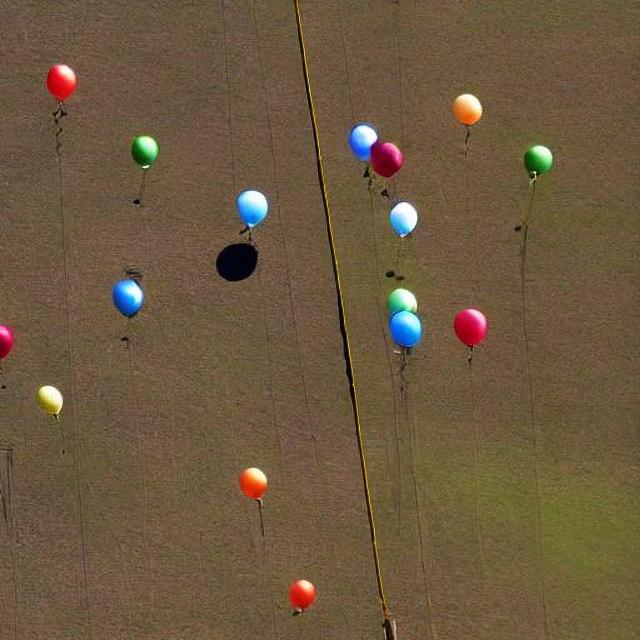balloon: (378, 279, 432, 367), (232, 185, 288, 246), (349, 126, 406, 182), (513, 140, 580, 182), (445, 305, 491, 354), (383, 199, 429, 247), (128, 130, 158, 202), (39, 61, 79, 106), (109, 274, 144, 320), (282, 577, 318, 620), (235, 464, 267, 502), (450, 91, 482, 127), (36, 383, 64, 417)
